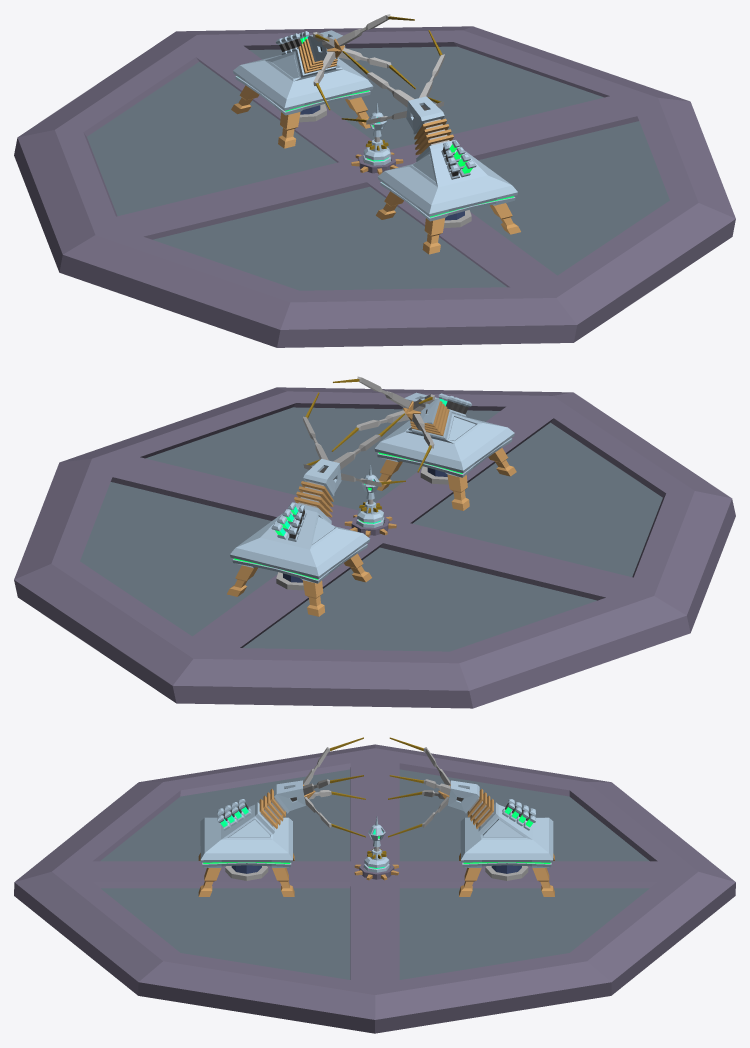
The model's file is baseitens_item01.fbx.
The picture shows the model from 3 angles, top to bottom: view 1: azimuth 30°, elevation 25°; view 2: azimuth 150°, elevation 25°; view 3: azimuth 270°, elevation 25°; orthographic projection. The views are drawn at different scales.
Parts seen in each view (by area): view 1: Cylinder.004; view 2: Cylinder.004; view 3: Cylinder.004.
Boxes of the visible parts, box(x1,y1,x2,y2) form: Cylinder.004: box(14, 14, 735, 347); Cylinder.004: box(14, 376, 735, 708); Cylinder.004: box(14, 737, 735, 1033).
Bounding box in the file's own units: 1953 × 468 × 2150.
